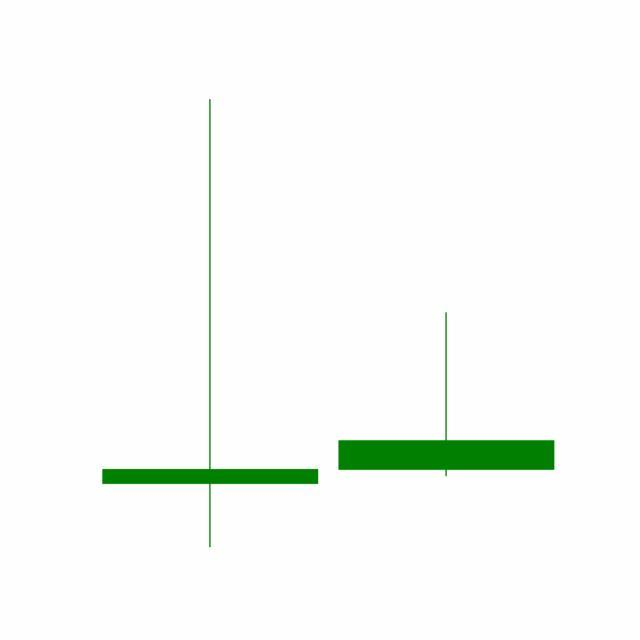Gravestone Doji: (328, 311, 566, 479)
